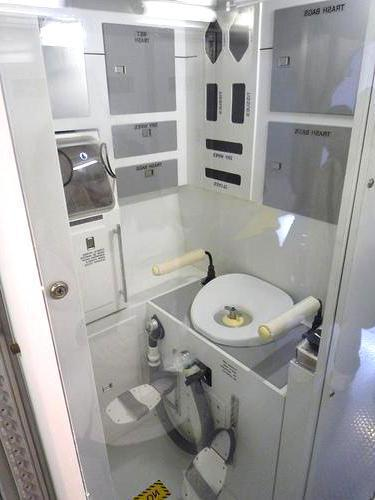Sanitario: (141, 244, 328, 376)
